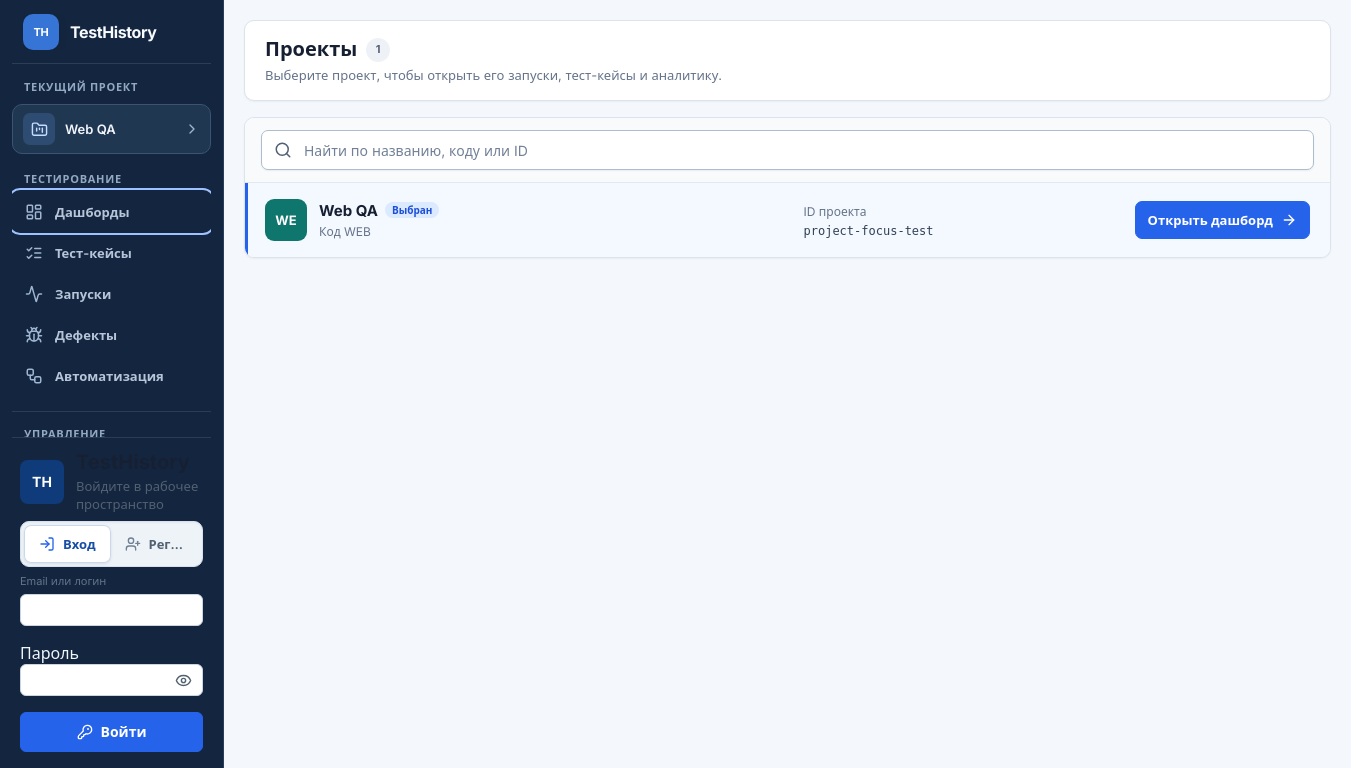
Test: WorkspaceSurface navigation focus › keeps focus on the persistent sidebar when it changes sections
The image size is (1366, 768).
Click the button with class "nav-link" showing "Дашборды".
click(112, 212)  # box [12, 192, 211, 231]
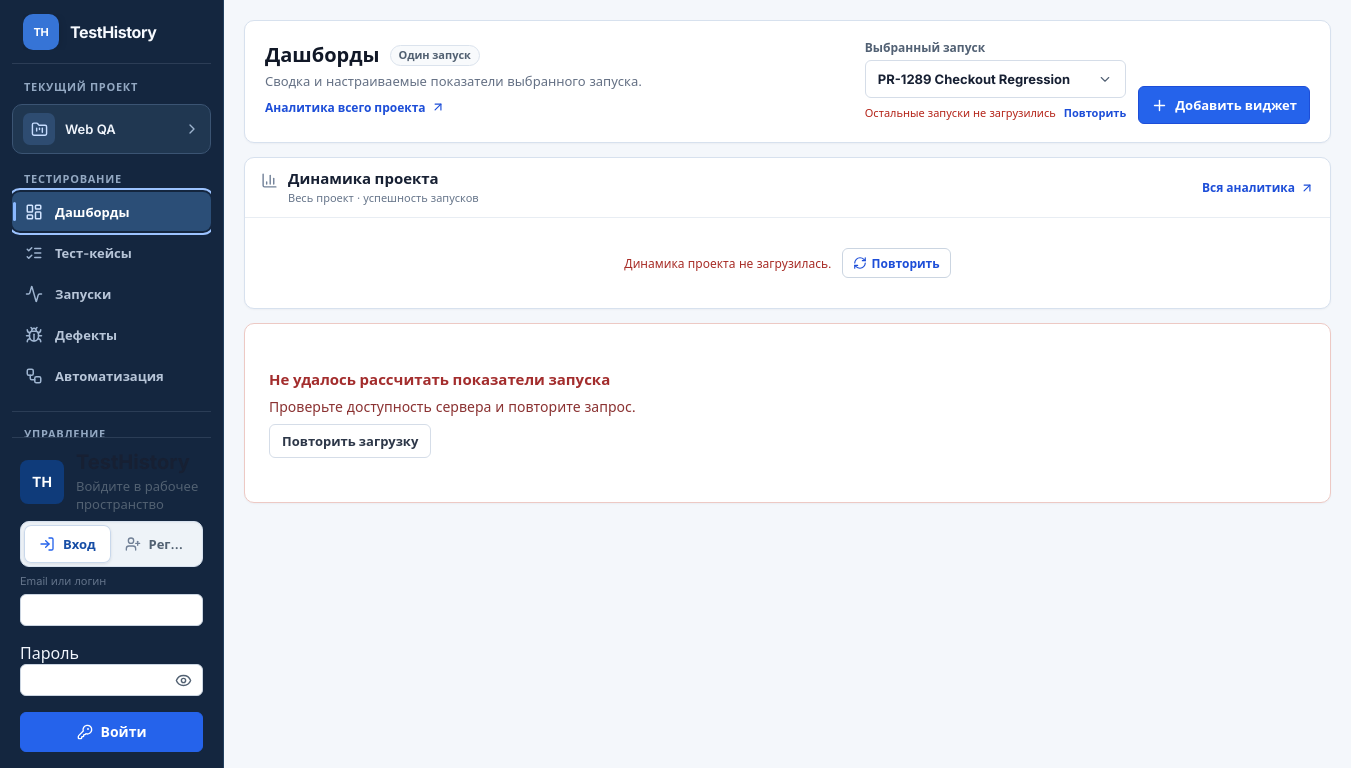
Expected: the heading "Дашборды" is shown, [265, 43, 380, 68]
